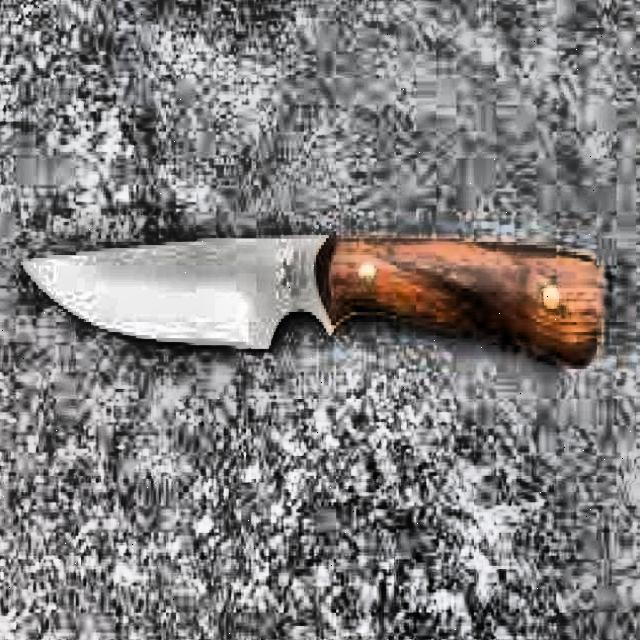knife: (10, 226, 617, 379)
